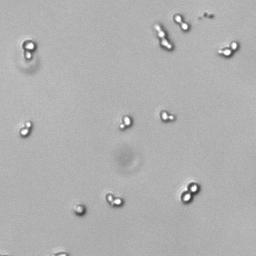budding: (217, 40, 240, 57), (172, 13, 191, 32), (181, 182, 199, 202), (23, 40, 36, 60), (106, 193, 124, 207), (20, 120, 32, 138), (119, 115, 132, 131), (160, 110, 175, 123)
cluster: (150, 21, 175, 53)
individual: (73, 203, 86, 215)
